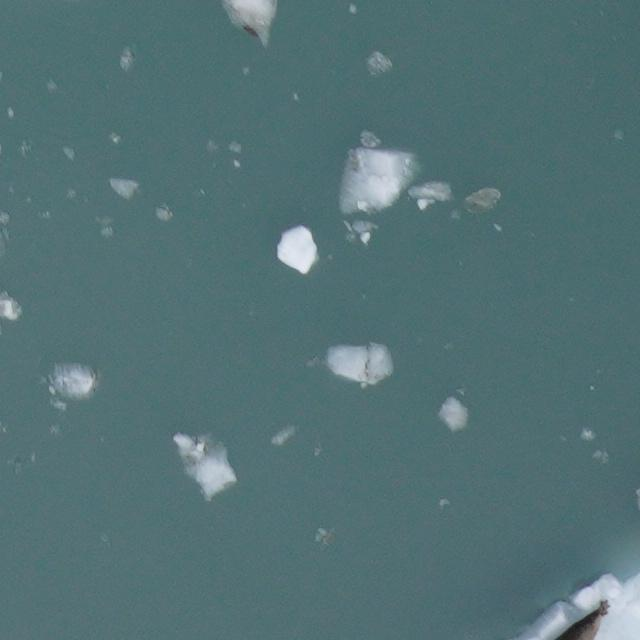seal: (548, 595, 616, 640)
